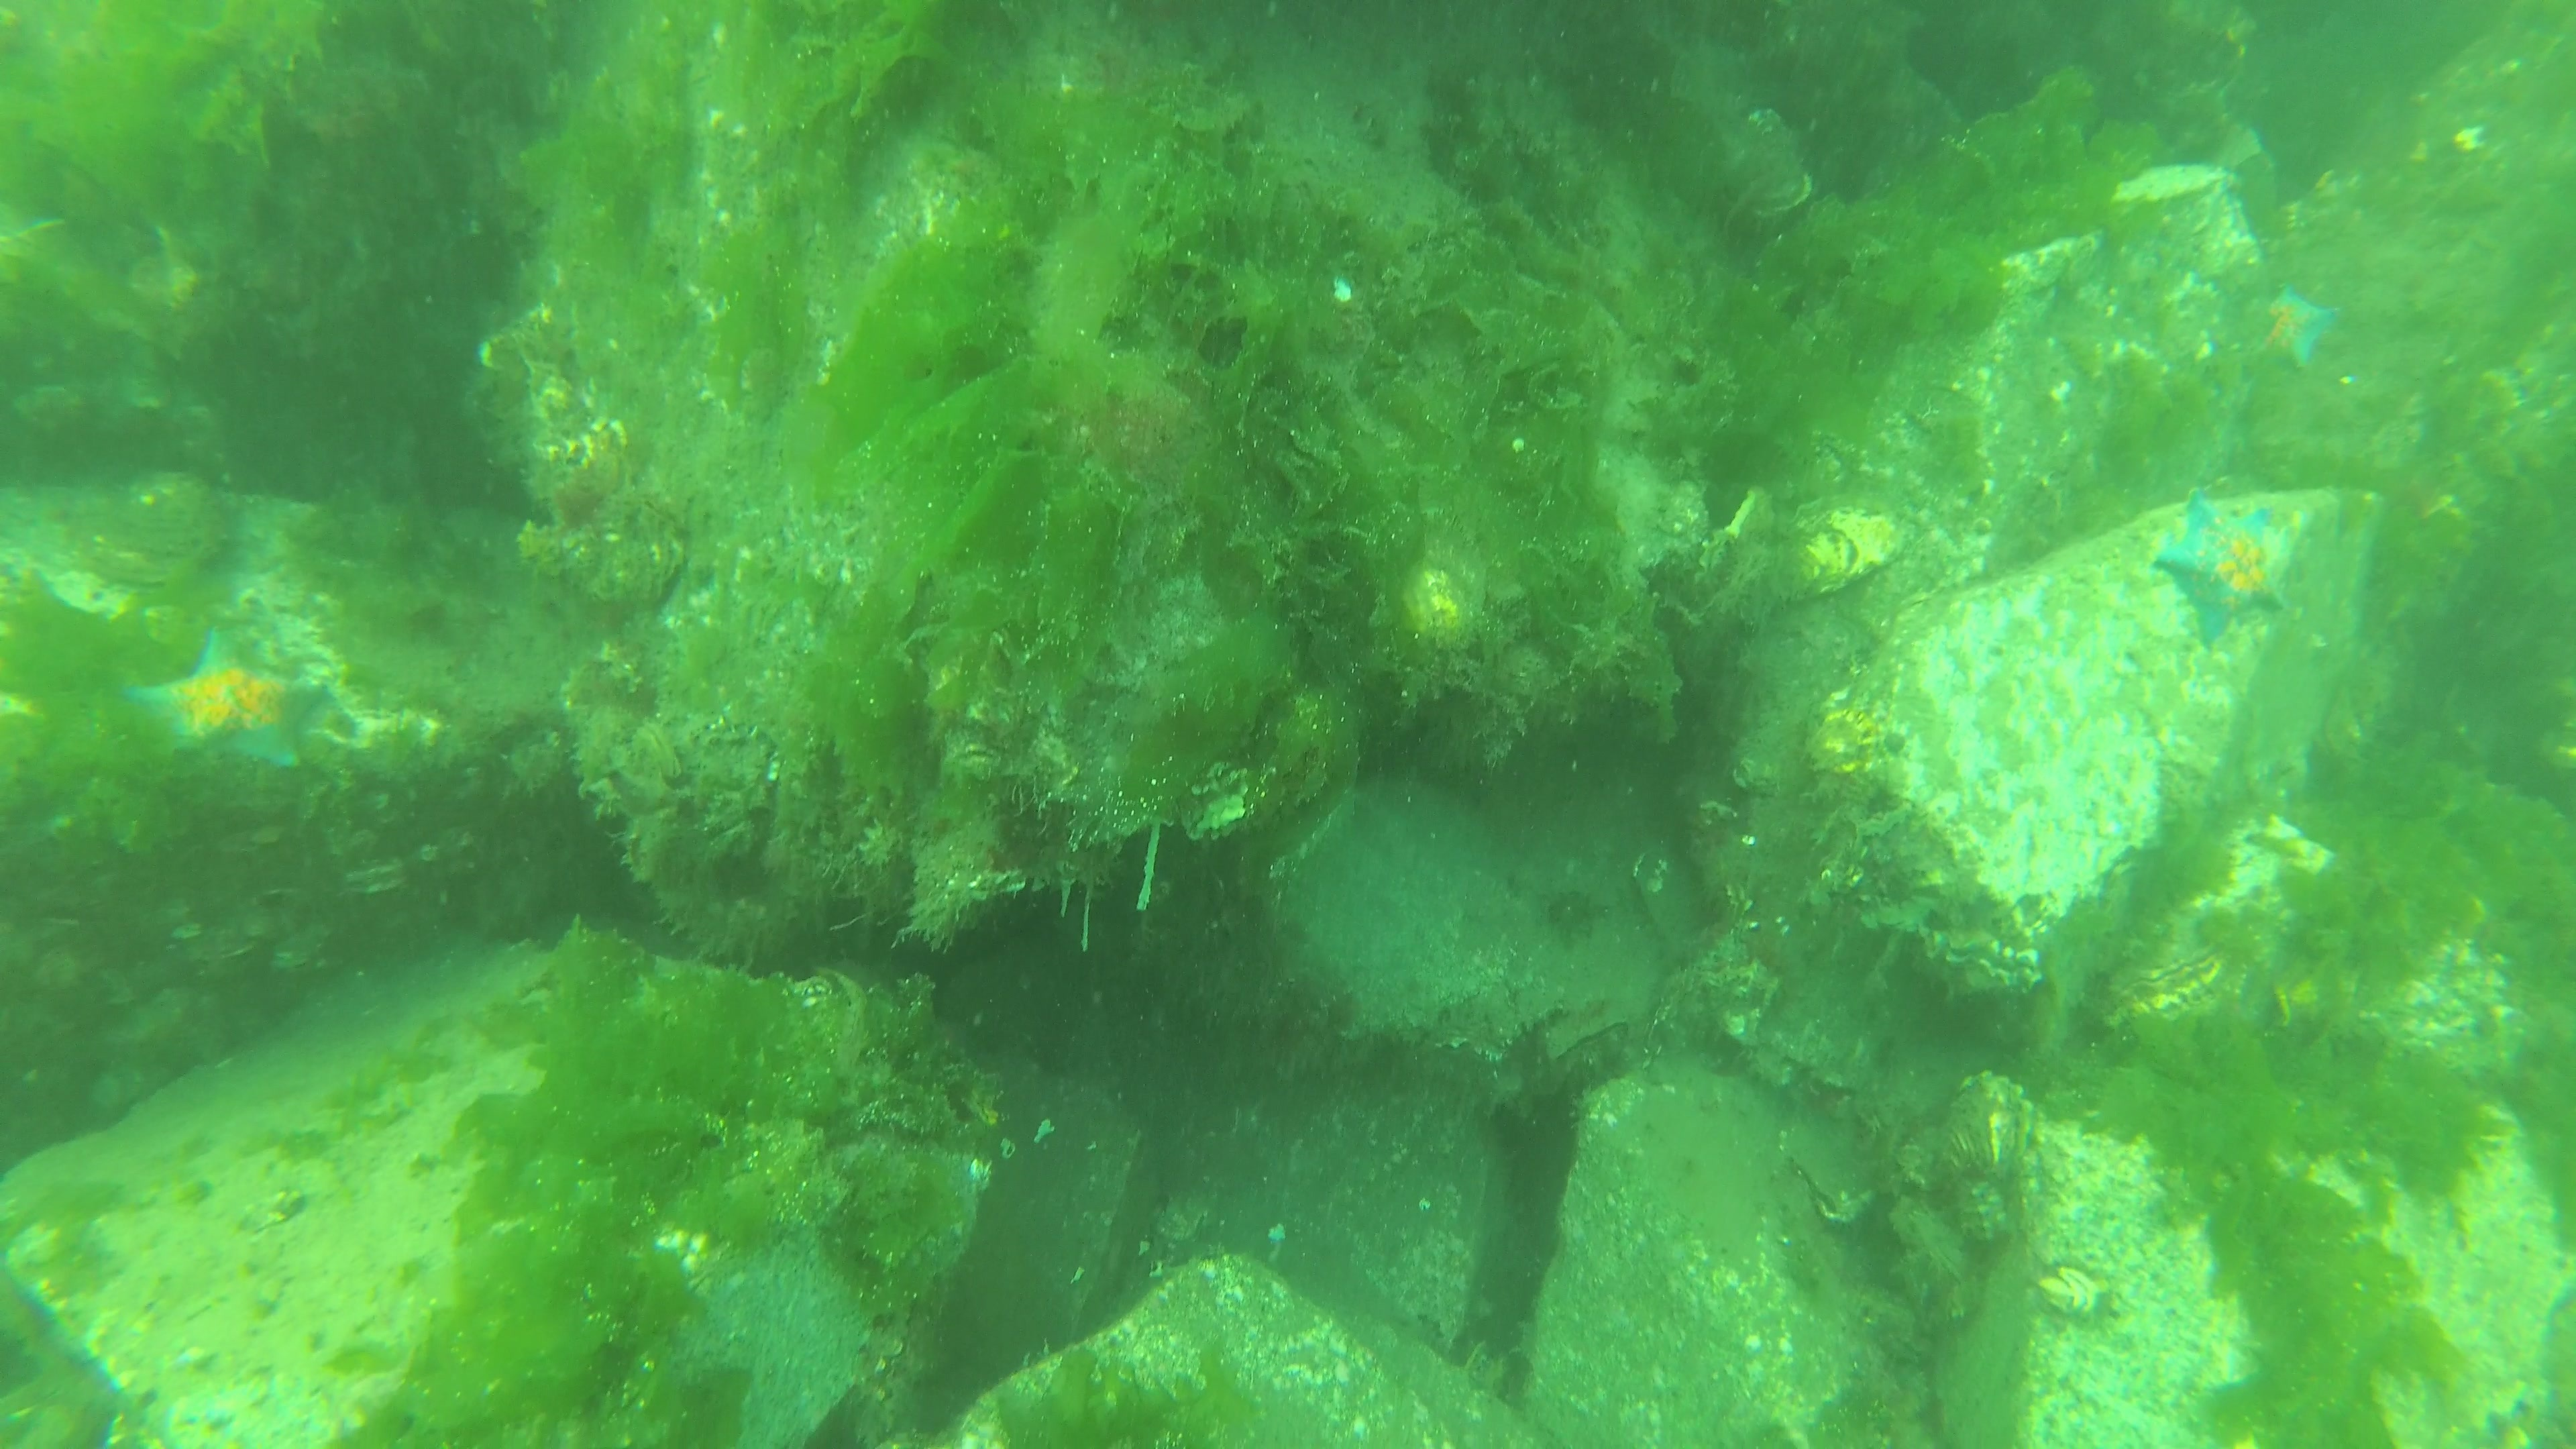scallop: (2105, 941, 2258, 1042)
starfish: (120, 612, 327, 782), (2151, 485, 2291, 651), (2263, 280, 2346, 379)
